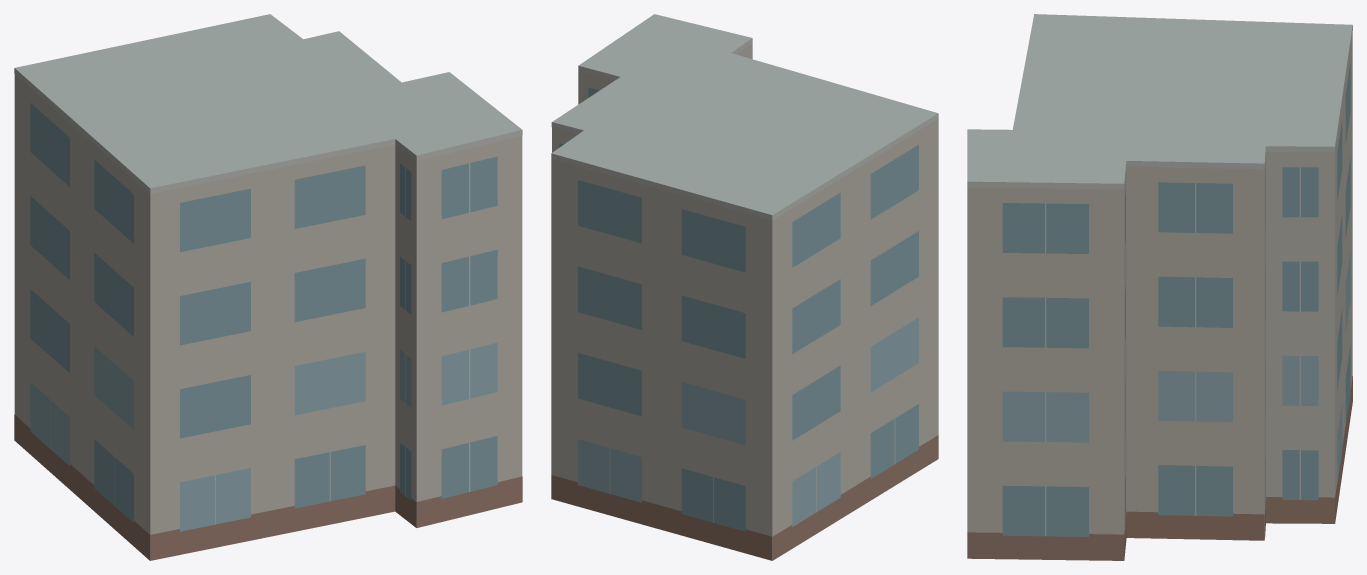
File: survey-upis-32930954.glb
3 views of the same model, side by side, from view 1: azimuth 30°, elevation 25°; view 2: azimuth 150°, elevation 25°; view 3: azimuth 270°, elevation 25° (orthographic). The views are drawn at different scales.
Parts seen in each view (by area): view 1: survey-upis-32930954.tmp; view 2: survey-upis-32930954.tmp; view 3: survey-upis-32930954.tmp.
Part boxes in pixels (x1,y1,x2,y2): survey-upis-32930954.tmp: (14, 14, 522, 560); survey-upis-32930954.tmp: (551, 14, 938, 560); survey-upis-32930954.tmp: (967, 14, 1352, 560).
Size of the model in its own units: 15.65 by 16.2 by 15.02.
